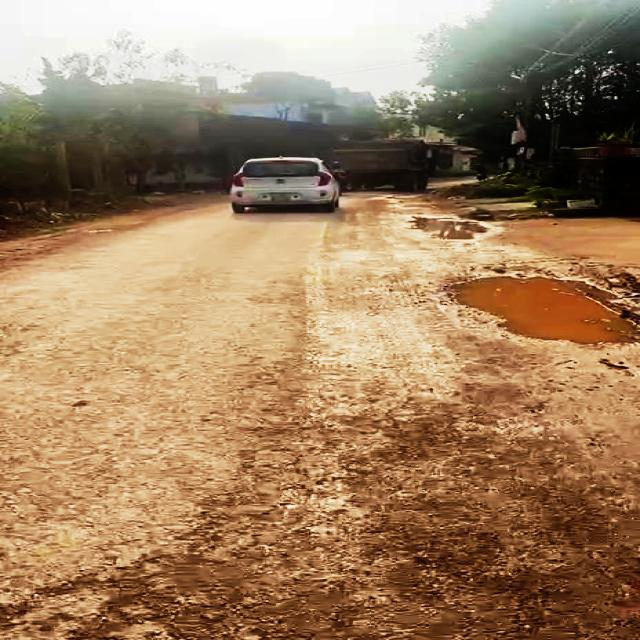pothole: (431, 267, 640, 345), (406, 214, 491, 243)
